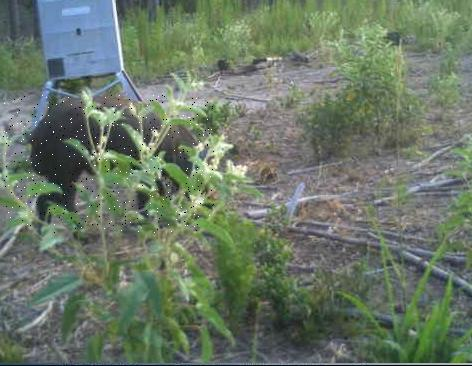Hog: (3, 95, 214, 233)
